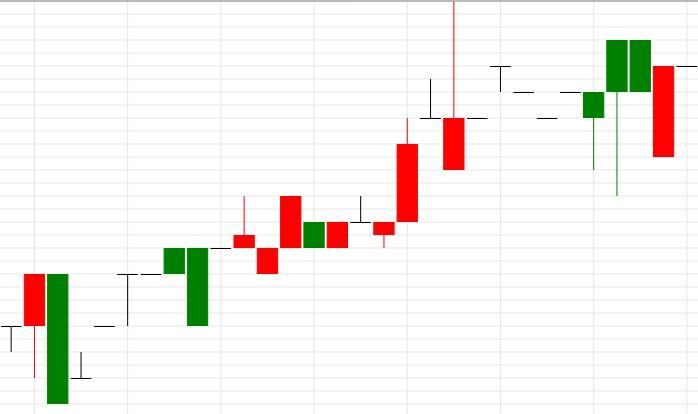hanging_man_fall: (537, 39, 629, 196), (537, 91, 605, 170)
shooting_star_fall: (46, 197, 256, 404)
